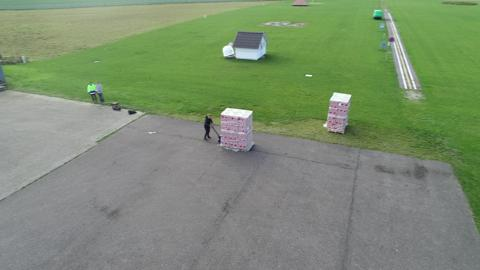RockwoolPallet: (222, 106, 257, 149)
